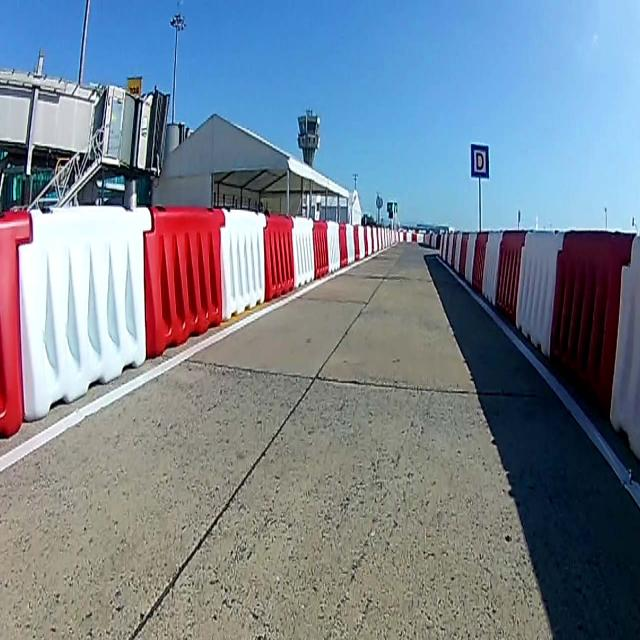durak: (472, 143, 491, 181)
